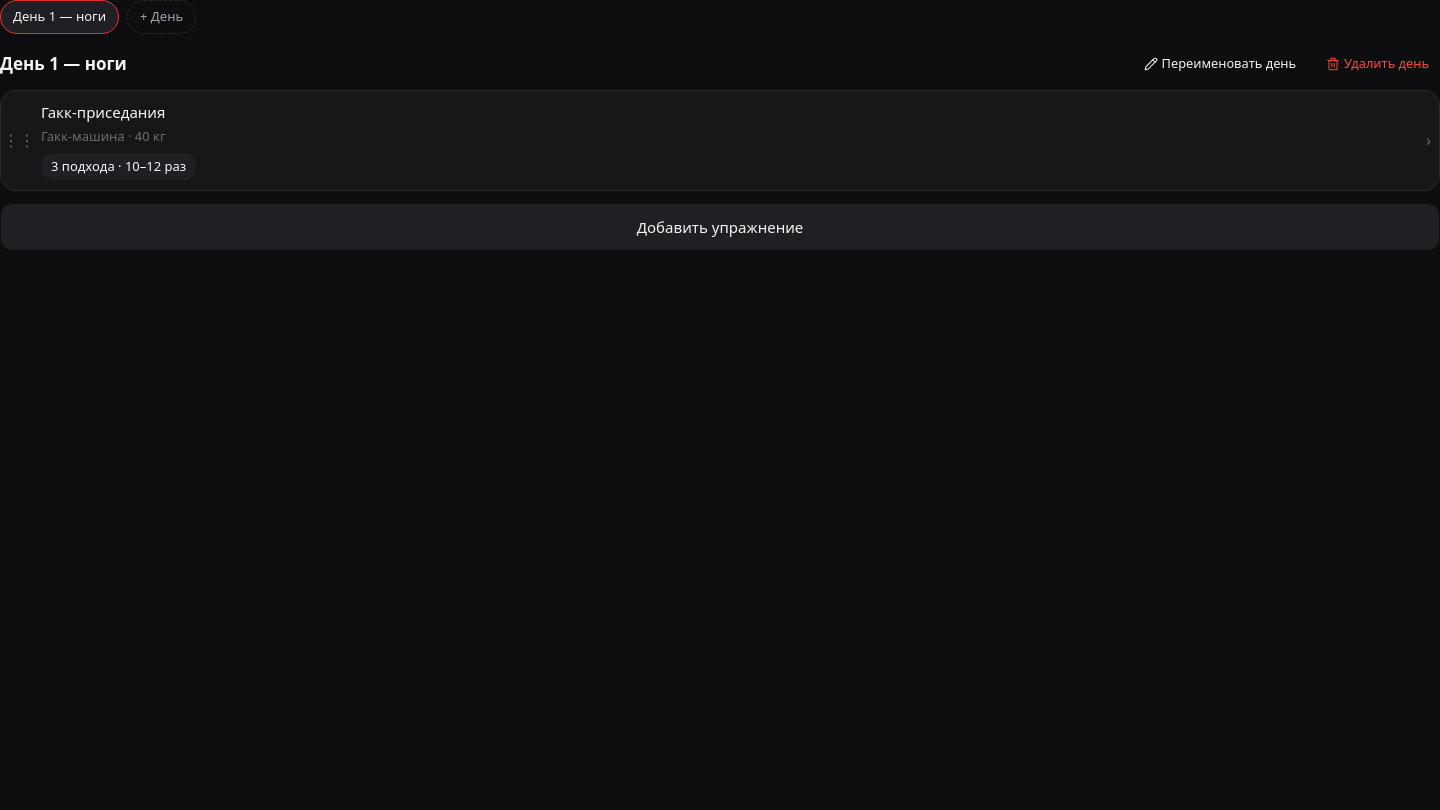
Test case: в предупреждении про последний день сказано, что дней не останется
This screenshot has width=1440, height=810.
Click the button "Удалить день". click: (1378, 64)
box: [1315,50,1439,78]
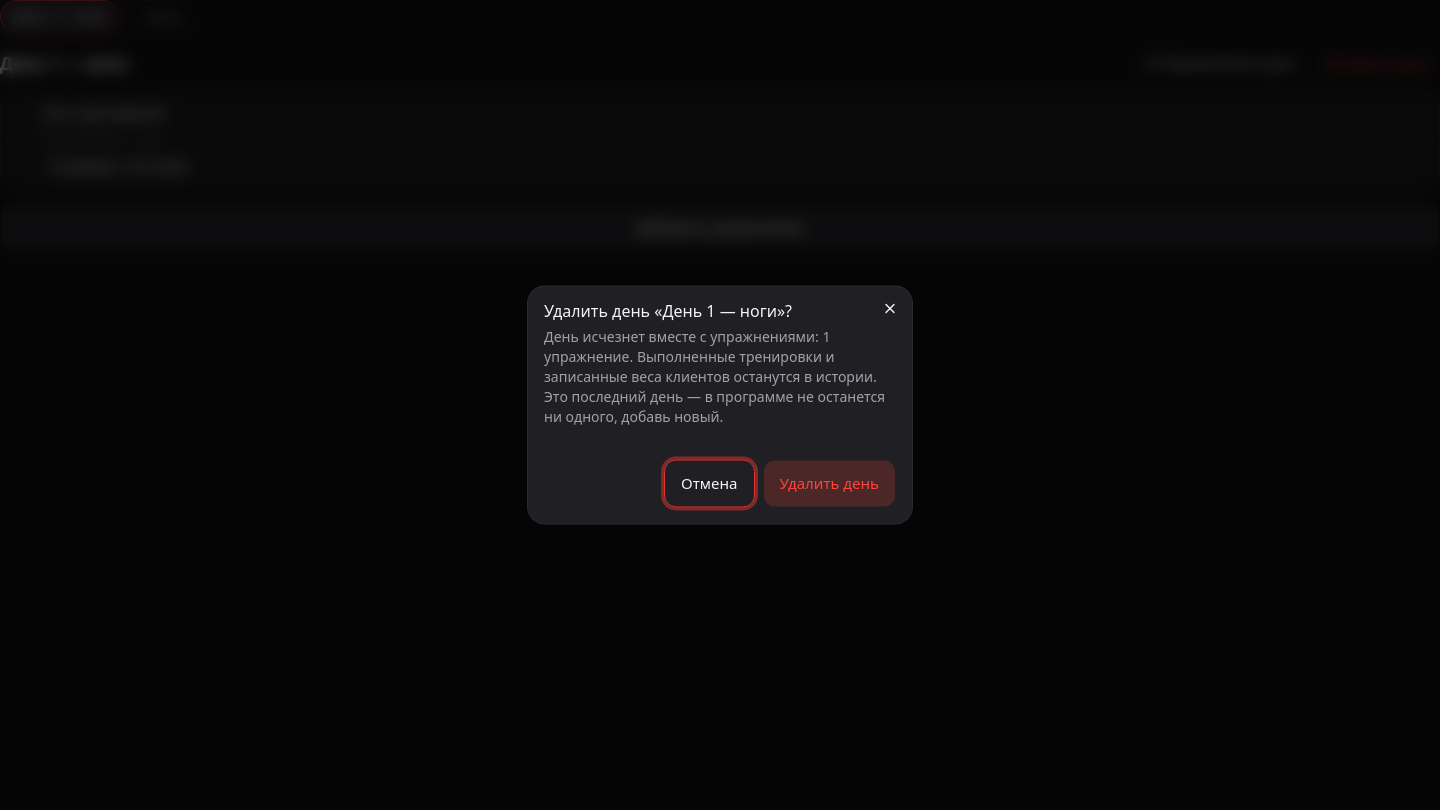
Expected: the dialog shows "Это последний день", [544,386,885,426]
